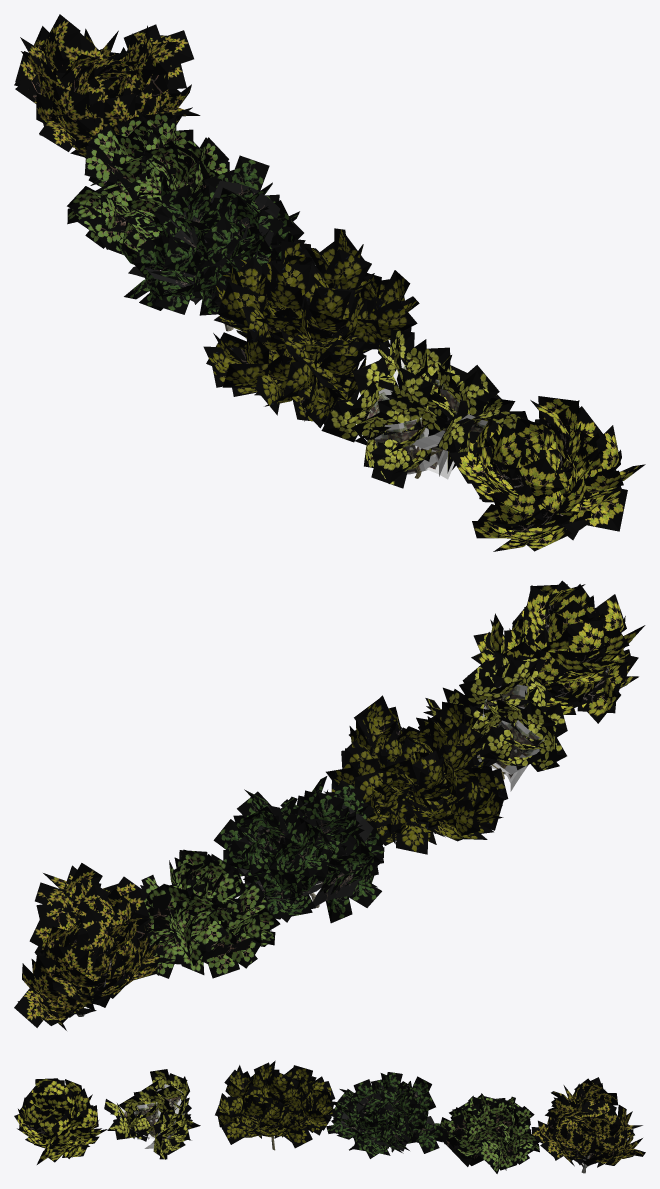
The model's file is bushes.obj.
3 renders of one model, top to bottom at view 1: azimuth 30°, elevation 25°; view 2: azimuth 150°, elevation 25°; view 3: azimuth 270°, elevation 25°, orthographic. The views are drawn at different scales.
Visible parts, largest first — view 1: Mesh893 Group947 Group940 Group938 Group905 Group1 Component_15_, Mesh573 Group619 Group_682_2 Group_711_1 Group588 Group587 Group, Mesh584 Group630 Group_682_3 Group_709_1 Group588 Group587 Group, Mesh920 Group978 Group972 Group970 Group905 Group1 Component_15_, Mesh852 Group899 Group_703_7 Group_722_3 Group806 Group1 Compone, Mesh785 Group832 Group_703_2 Group_719_1 Group806 Group1 Compone, Mesh555 Group601 Group_682_1 Group_710_1 Group588 Group587 Group, Mesh921 Group979 Group972 Group970 Group905 Group1 Component_15_, Mesh847 Group894 Group_703_7 Group_722_3 Group806 Group1 Compone, Mesh451 Group488 Group_676_7 Group374 Group1 Component_15_1 Mode, Mesh868 Group918 Group908 Group906 Group905 Group1 Component_15_, Mesh662 Group708 Group_682_7 Group_717_2 Group586 Group1 Compone (+12 smaller); view 2: Mesh879 Group931 Group924 Group922 Group905 Group1 Component_15_, Mesh777 Group824 Group_703_2 Group_719_1 Group806 Group1 Compone, Mesh745 Group791 Group_682_12 Group_717_4 Group586 Group1 Compon, Mesh782 Group829 Group_703_2 Group_719_1 Group806 Group1 Compone, Mesh49 Group54 Group47 Group_516_3 Group_647_3 Group2 Group1 Com, Mesh827 Group874 Group_703_5 Group_513_1 Group806 Group1 Compone, Mesh571 Group617 Group_682_2 Group_711_1 Group588 Group587 Group, Mesh421 Group455 Group_676_5 Group_698_2 Group424 Group374 Group, Mesh718 Group764 Group_682_10 Group_709_3 Group586 Group1 Compon, Mesh507 Group548 Group_676_11 Group_688_4 Group374 Group1 Compon, Mesh953 Group1015 Group1003 Group1002 Group905 Group1 Component_, Mesh18 Group21 Group_516_1 Group_647_1 Group2 Group1 Component_1 (+6 smaller); view 3: Mesh651 Group697 Group_682_6 Group_717_1 Group586 Group1 Compone, Mesh935 Group995 Group988 Group986 Group905 Group1 Component_15_, Mesh948 Group1010 Group1003 Group1002 Group905 Group1 Component_, Mesh833 Group880 Group_703_6 Group_722_2 Group806 Group1 Compone, Mesh962 Group1026 Group1019 Group1018 Group905 Group1 Component_, Mesh481 Group520 Group_676_9 Group_688_3 Group374 Group1 Compone, Mesh821 Group868 Group_703_5 Group_513_1 Group806 Group1 Compone, Mesh571 Group617 Group_682_2 Group_711_1 Group588 Group587 Group, Mesh799 Group846 Group_703_3 Group_705_1 Group806 Group1 Compone, Mesh290 Group312 Group_687_8 Group_691_1 Group183 Group1 Compone, Mesh242 Group261 Group_687_5 Group_694_3 Group254 Group183 Group, Mesh669 Group715 Group_682_7 Group_717_2 Group586 Group1 Compone (+37 smaller).
Part boxes in pixels (x1,y1,x2,y2): Mesh893 Group947 Group940 Group938 Group905 Group1 Component_15_: (491,484,544,530); Mesh573 Group619 Group_682_2 Group_711_1 Group588 Group587 Group: (323,249,371,289); Mesh584 Group630 Group_682_3 Group_709_1 Group588 Group587 Group: (217,281,266,326); Mesh920 Group978 Group972 Group970 Group905 Group1 Component_15_: (516,457,564,499); Mesh852 Group899 Group_703_7 Group_722_3 Group806 Group1 Compone: (371,438,414,483); Mesh785 Group832 Group_703_2 Group_719_1 Group806 Group1 Compone: (321,400,369,442); Mesh555 Group601 Group_682_1 Group_710_1 Group588 Group587 Group: (367,299,417,341); Mesh921 Group979 Group972 Group970 Group905 Group1 Component_15_: (490,424,525,479); Mesh847 Group894 Group_703_7 Group_722_3 Group806 Group1 Compone: (374,417,436,474); Mesh451 Group488 Group_676_7 Group374 Group1 Component_15_1 Mode: (231,155,269,202); Mesh868 Group918 Group908 Group906 Group905 Group1 Component_15_: (582,489,627,531); Mesh662 Group708 Group_682_7 Group_717_2 Group586 Group1 Compone: (308,288,351,319); Mesh879 Group931 Group924 Group922 Group905 Group1 Component_15_: (567,620,605,660); Mesh777 Group824 Group_703_2 Group_719_1 Group806 Group1 Compone: (496,720,543,774); Mesh745 Group791 Group_682_12 Group_717_4 Group586 Group1 Compon: (396,821,428,854); Mesh782 Group829 Group_703_2 Group_719_1 Group806 Group1 Compone: (480,726,512,760); Mesh49 Group54 Group47 Group_516_3 Group_647_3 Group2 Group1 Com: (54,946,88,978); Mesh827 Group874 Group_703_5 Group_513_1 Group806 Group1 Compone: (459,675,502,706); Mesh571 Group617 Group_682_2 Group_711_1 Group588 Group587 Group: (362,695,393,744); Mesh421 Group455 Group_676_5 Group_698_2 Group424 Group374 Group: (309,792,343,827); Mesh718 Group764 Group_682_10 Group_709_3 Group586 Group1 Compon: (450,799,480,836); Mesh507 Group548 Group_676_11 Group_688_4 Group374 Group1 Compon: (337,843,381,879); Mesh953 Group1015 Group1003 Group1002 Group905 Group1 Component_: (524,585,550,630); Mesh18 Group21 Group_516_1 Group_647_1 Group2 Group1 Component_1: (14,988,49,1027); Mesh651 Group697 Group_682_6 Group_717_1 Group586 Group1 Compone: (221,1117,248,1144); Mesh935 Group995 Group988 Group986 Group905 Group1 Component_15_: (80,1105,98,1130); Mesh948 Group1010 Group1003 Group1002 Group905 Group1 Component_: (42,1080,64,1100); Mesh833 Group880 Group_703_6 Group_722_2 Group806 Group1 Compone: (134,1102,160,1139); Mesh962 Group1026 Group1019 Group1018 Group905 Group1 Component_: (23,1101,40,1129); Mesh481 Group520 Group_676_9 Group_688_3 Group374 Group1 Compone: (353,1079,375,1102); Mesh821 Group868 Group_703_5 Group_513_1 Group806 Group1 Compone: (150,1069,171,1089); Mesh571 Group617 Group_682_2 Group_711_1 Group588 Group587 Group: (266,1070,292,1092); Mesh799 Group846 Group_703_3 Group_705_1 Group806 Group1 Compone: (113,1117,130,1139); Mesh290 Group312 Group_687_8 Group_691_1 Group183 Group1 Compone: (447,1131,483,1165); Mesh242 Group261 Group_687_5 Group_694_3 Group254 Group183 Group: (452,1109,480,1155); Mesh669 Group715 Group_682_7 Group_717_2 Group586 Group1 Compone: (228,1094,246,1117).
Bounding box in the file's own units: 139 × 93.78 × 566.
18 materials, 18 textured.
